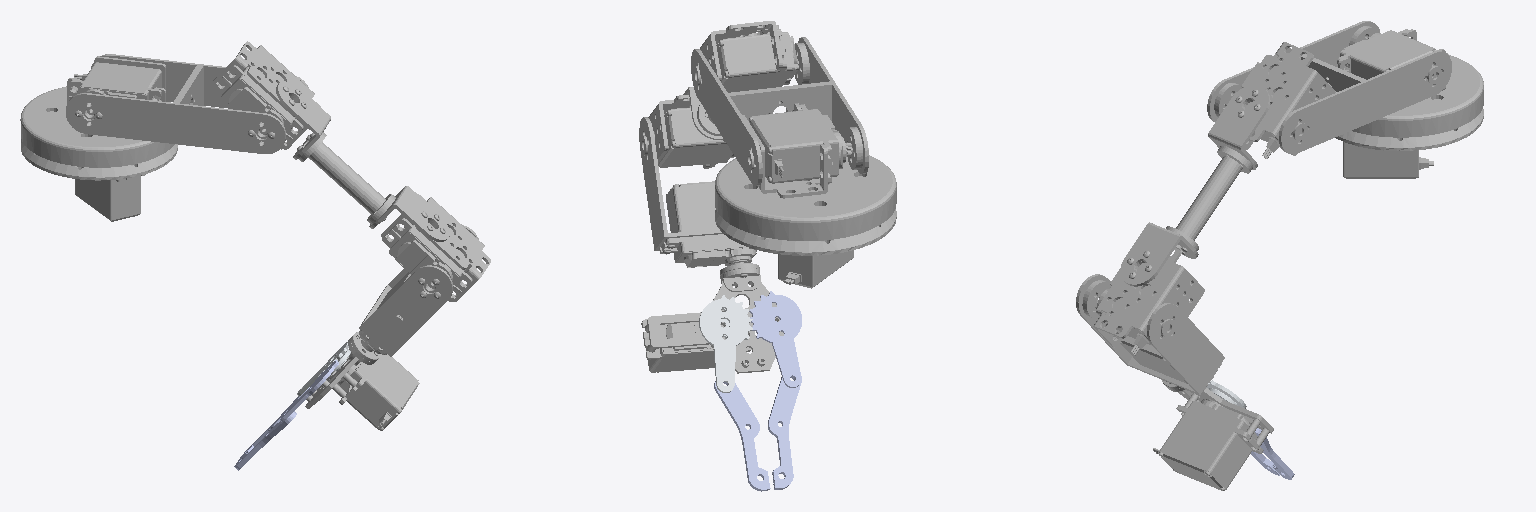
robot.urdf — robotarm:
<?xml version="1.0" encoding="utf-8"?>
<!-- This URDF was automatically created by SolidWorks to URDF Exporter! Originally created by [author] ([email redacted]) 
     Commit Version: 1.6.0-1-g15f4949  Build Version: 1.6.7594.29634
     For more information, please see http://wiki.ros.org/sw_urdf_exporter -->
<robot
  name="robotarm">
  <link
    name="base_link">
    <inertial>
      <origin
        xyz="-1.6426E-07 -0.0034447 -0.015321"
        rpy="0 0 0" />
      <mass
        value="0.075498" />
      <inertia
        ixx="3.0782E-05"
        ixy="-1.319E-10"
        ixz="2.5699E-10"
        iyy="2.8846E-05"
        iyz="-2.7031E-07"
        izz="4.9712E-05" />
    </inertial>
    <visual>
      <origin
        xyz="0 0 0"
        rpy="0 0 0" />
      <geometry>
        <mesh
          filename="package://robotarm/meshes/base_link.STL" />
      </geometry>
      <material
        name="">
        <color
          rgba="0.75294 0.75294 0.75294 1" />
      </material>
    </visual>
    <collision>
      <origin
        xyz="0 0 0"
        rpy="0 0 0" />
      <geometry>
        <mesh
          filename="package://robotarm/meshes/base_link.STL" />
      </geometry>
    </collision>
  </link>
  <link
    name="link_1">
    <inertial>
      <origin
        xyz="0.00643720654093674 -0.00269150109526517 0.0134014173539044"
        rpy="0 0 0" />
      <mass
        value="0.0798083224491902" />
      <inertia
        ixx="2.66369888305852E-05"
        ixy="2.43210282464138E-06"
        ixz="-3.15010363972306E-07"
        iyy="2.67162812954715E-05"
        iyz="-3.12605441684161E-07"
        izz="4.93317878172949E-05" />
    </inertial>
    <visual>
      <origin
        xyz="0 0 0"
        rpy="0 0 0" />
      <geometry>
        <mesh
          filename="package://robotarm/meshes/link_1.STL" />
      </geometry>
      <material
        name="">
        <color
          rgba="0.752941176470588 0.752941176470588 0.752941176470588 1" />
      </material>
    </visual>
    <collision>
      <origin
        xyz="0 0 0"
        rpy="0 0 0" />
      <geometry>
        <mesh
          filename="package://robotarm/meshes/link_1.STL" />
      </geometry>
    </collision>
  </link>
  <joint
    name="joint_0"
    type="revolute">
    <origin
      xyz="0 0 0"
      rpy="0 0 0" />
    <parent
      link="base_link" />
    <child
      link="link_1" />
    <axis
      xyz="0 0 1" />
    <limit
      lower="0"
      upper="4.712"
      effort="0"
      velocity="0" />
  </joint>
  <link
    name="link_2">
    <inertial>
      <origin
        xyz="-0.051 -2.63677968348475E-16 -0.00196123940376832"
        rpy="0 0 0" />
      <mass
        value="0.0475993853834784" />
      <inertia
        ixx="2.93414623184683E-05"
        ixy="-1.30726089434481E-19"
        ixz="5.11338195957461E-36"
        iyy="4.53034392400335E-05"
        iyz="-9.5043314074099E-21"
        izz="2.08816059621121E-05" />
    </inertial>
    <visual>
      <origin
        xyz="0 0 0"
        rpy="0 0 0" />
      <geometry>
        <mesh
          filename="package://robotarm/meshes/link_2.STL" />
      </geometry>
      <material
        name="">
        <color
          rgba="0.752941176470588 0.752941176470588 0.752941176470588 1" />
      </material>
    </visual>
    <collision>
      <origin
        xyz="0 0 0"
        rpy="0 0 0" />
      <geometry>
        <mesh
          filename="package://robotarm/meshes/link_2.STL" />
      </geometry>
    </collision>
  </link>
  <joint
    name="joint1"
    type="revolute">
    <origin
      xyz="0.00124058826901911 -0.00124058826901911 0.0221999999999998"
      rpy="1.5707963267949 0 2.35619449019234" />
    <parent
      link="link_1" />
    <child
      link="link_2" />
    <axis
      xyz="0 0 -1" />
    <limit
      lower="0"
      upper="3.14"
      effort="0"
      velocity="0" />
  </joint>
  <link
    name="link_3">
    <inertial>
      <origin
        xyz="0.0444752633995382 0.0332421345581076 0.00374536353127095"
        rpy="0 0 0" />
      <mass
        value="0.111344903558028" />
      <inertia
        ixx="1.66056250623683E-05"
        ixy="-6.71948378498426E-06"
        ixz="6.19342096871634E-07"
        iyy="1.89789027026512E-05"
        iyz="-5.97715578617458E-07"
        izz="2.27017654068602E-05" />
    </inertial>
    <visual>
      <origin
        xyz="0 0 0"
        rpy="0 0 0" />
      <geometry>
        <mesh
          filename="package://robotarm/meshes/link_3.STL" />
      </geometry>
      <material
        name="">
        <color
          rgba="0.752941176470588 0.752941176470588 0.752941176470588 1" />
      </material>
    </visual>
    <collision>
      <origin
        xyz="0 0 0"
        rpy="0 0 0" />
      <geometry>
        <mesh
          filename="package://robotarm/meshes/link_3.STL" />
      </geometry>
    </collision>
  </link>
  <joint
    name="joint_2"
    type="revolute">
    <origin
      xyz="-0.102 0 0"
      rpy="0 0 -3.14159265358979" />
    <parent
      link="link_2" />
    <child
      link="link_3" />
    <axis
      xyz="0 0 -1" />
    <limit
      lower="0"
      upper="3.14"
      effort="0"
      velocity="0" />
  </joint>
  <link
    name="link_4">
    <inertial>
      <origin
        xyz="3.02730824502939E-06 0.0352705924267145 -0.00196741413973657"
        rpy="0 0 0" />
      <mass
        value="0.0508687980545233" />
      <inertia
        ixx="2.51364985763338E-05"
        ixy="-3.85091293605431E-09"
        ixz="-1.02797636769819E-12"
        iyy="1.93910140275962E-05"
        iyz="3.94774817099828E-08"
        izz="9.91099475568992E-06" />
    </inertial>
    <visual>
      <origin
        xyz="0 0 0"
        rpy="0 0 0" />
      <geometry>
        <mesh
          filename="package://robotarm/meshes/link_4.STL" />
      </geometry>
      <material
        name="">
        <color
          rgba="0.752941176470588 0.752941176470588 0.752941176470588 1" />
      </material>
    </visual>
    <collision>
      <origin
        xyz="0 0 0"
        rpy="0 0 0" />
      <geometry>
        <mesh
          filename="package://robotarm/meshes/link_4.STL" />
      </geometry>
    </collision>
  </link>
  <joint
    name="joint_3"
    type="revolute">
    <origin
      xyz="0.099975662979547 0.0838894708388696 0"
      rpy="0.0330134851352851 0 0.698131700797741" />
    <parent
      link="link_3" />
    <child
      link="link_4" />
    <axis
      xyz="0 0 -1" />
    <limit
      lower="0"
      upper="3.14"
      effort="0"
      velocity="0" />
  </joint>
  <link
    name="link_5">
    <inertial>
      <origin
        xyz="-0.0184249544119825 0.0171316363540742 -0.035892675867338"
        rpy="0 0 0" />
      <mass
        value="0.0397478645334775" />
      <inertia
        ixx="2.32515926061247E-06"
        ixy="3.94774751684318E-08"
        ixz="6.48491138003059E-09"
        iyy="6.98208213781587E-06"
        iyz="5.78869036936509E-13"
        izz="6.25600346089357E-06" />
    </inertial>
    <visual>
      <origin
        xyz="0 0 0"
        rpy="0 0 0" />
      <geometry>
        <mesh
          filename="package://robotarm/meshes/link_5.STL" />
      </geometry>
      <material
        name="">
        <color
          rgba="0.752941176470588 0.752941176470588 0.752941176470588 1" />
      </material>
    </visual>
    <collision>
      <origin
        xyz="0 0 0"
        rpy="0 0 0" />
      <geometry>
        <mesh
          filename="package://robotarm/meshes/link_5.STL" />
      </geometry>
    </collision>
  </link>
  <joint
    name="joint_4"
    type="revolute">
    <origin
      xyz="0 0.0566763508359767 -0.0112859927951109"
      rpy="1.5707963267949 1.5707963267949 0" />
    <parent
      link="link_4" />
    <child
      link="link_5" />
    <axis
      xyz="0 0 1" />
    <limit
      lower="0"
      upper="3.14"
      effort="0"
      velocity="0" />
  </joint>
  <link
    name="link_61">
    <inertial>
      <origin
        xyz="-0.000192734771442497 0.00275873975359908 -0.000813773191796846"
        rpy="0 0 0" />
      <mass
        value="0.00341955118879605" />
      <inertia
        ixx="2.62104710682565E-07"
        ixy="2.30360067057318E-08"
        ixz="-1.74121518942412E-22"
        iyy="1.01403956505996E-07"
        iyz="-3.37489689921635E-22"
        izz="3.58487645568436E-07" />
    </inertial>
    <visual>
      <origin
        xyz="0 0 0"
        rpy="0 0 0" />
      <geometry>
        <mesh
          filename="package://robotarm/meshes/link_61.STL" />
      </geometry>
      <material
        name="">
        <color
          rgba="0.894117647058823 0.913725490196078 0.929411764705882 1" />
      </material>
    </visual>
    <collision>
      <origin
        xyz="0 0 0"
        rpy="0 0 0" />
      <geometry>
        <mesh
          filename="package://robotarm/meshes/link_61.STL" />
      </geometry>
    </collision>
  </link>
  <joint
    name="joint_51"
    type="revolute">
    <origin
      xyz="-0.013072 -0.00355 -0.039074"
      rpy="-1.5708 0 0" />
    <parent
      link="link_5" />
    <child
      link="link_61" />
    <axis
      xyz="0 0 1" />
    <limit
      lower="-0.04"
      upper="0.85"
      effort="0"
      velocity="0" />
  </joint>
  <link
    name="link_63">
    <inertial>
      <origin
        xyz="0.00654318154869312 0.0226680423442778 0.00150000000000014"
        rpy="0 0 0" />
      <mass
        value="0.00148390327012938" />
      <inertia
        ixx="4.32400053088663E-07"
        ixy="-7.84391167939727E-08"
        ixz="-4.98789909369476E-22"
        iyy="3.07531963750948E-08"
        iyz="-2.32768624372422E-21"
        izz="4.60927394558564E-07" />
    </inertial>
    <visual>
      <origin
        xyz="0 0 0"
        rpy="0 0 0" />
      <geometry>
        <mesh
          filename="package://robotarm/meshes/link_63.STL" />
      </geometry>
      <material
        name="">
        <color
          rgba="0.792156862745098 0.819607843137255 0.933333333333333 1" />
      </material>
    </visual>
    <collision>
      <origin
        xyz="0 0 0"
        rpy="0 0 0" />
      <geometry>
        <mesh
          filename="package://robotarm/meshes/link_63.STL" />
      </geometry>
    </collision>
  </link>
  <joint
    name="joint_53"
    type="revolute">
    <origin
      xyz="-0.0036089 0.030839 -0.00175"
      rpy="0 0 0" />
    <parent
      link="link_61" />
    <child
      link="link_63" />
    <axis
      xyz="0 0 -1" />
    <limit
      lower="-0.04"
      upper="0.85"
      effort="0"
      velocity="0" />
    <mimic
      joint="joint_51"
      multiplier="1"
      offset="0" />
  </joint>
  <link
    name="link_62">
    <inertial>
      <origin
        xyz="0.00042558867984482 0.00666645635213595 -0.00100000000000061"
        rpy="0 0 0" />
      <mass
        value="0.00141569349834304" />
      <inertia
        ixx="2.12882327783984E-07"
        ixy="-2.23055006843692E-08"
        ixz="-9.05349180439289E-22"
        iyy="4.996839643101E-08"
        iyz="-1.53690157812353E-21"
        izz="2.61906928549432E-07" />
    </inertial>
    <visual>
      <origin
        xyz="0 0 0"
        rpy="0 0 0" />
      <geometry>
        <mesh
          filename="package://robotarm/meshes/link_62.STL" />
      </geometry>
      <material
        name="">
        <color
          rgba="0.792156862745098 0.819607843137255 0.933333333333333 1" />
      </material>
    </visual>
    <collision>
      <origin
        xyz="0 0 0"
        rpy="0 0 0" />
      <geometry>
        <mesh
          filename="package://robotarm/meshes/link_62.STL" />
      </geometry>
    </collision>
  </link>
  <joint
    name="joint_52"
    type="revolute">
    <origin
      xyz="0.014 -0.0053 -0.039074"
      rpy="-1.5708 0 0" />
    <parent
      link="link_5" />
    <child
      link="link_62" />
    <axis
      xyz="0 0 -1" />
    <limit
      lower="-0.04"
      upper="0.85"
      effort="0"
      velocity="0" />
    <mimic
      joint="joint_51"
      multiplier="1"
      offset="0" />
  </joint>
  <link
    name="link_64">
    <inertial>
      <origin
        xyz="-0.00676896117046278 0.022601648903872 0.00150000000000003"
        rpy="0 0 0" />
      <mass
        value="0.00148390327012937" />
      <inertia
        ixx="4.30795368939764E-07"
        ixy="8.24295843530975E-08"
        ixz="-1.08360660244447E-22"
        iyy="3.23578805239945E-08"
        iyz="-4.51640614453953E-22"
        izz="4.60927394558564E-07" />
    </inertial>
    <visual>
      <origin
        xyz="0 0 0"
        rpy="0 0 0" />
      <geometry>
        <mesh
          filename="package://robotarm/meshes/link_64.STL" />
      </geometry>
      <material
        name="">
        <color
          rgba="0.792156862745098 0.819607843137255 0.933333333333333 1" />
      </material>
    </visual>
    <collision>
      <origin
        xyz="0 0 0"
        rpy="0 0 0" />
      <geometry>
        <mesh
          filename="package://robotarm/meshes/link_64.STL" />
      </geometry>
    </collision>
  </link>
  <joint
    name="joint_54"
    type="revolute">
    <origin
      xyz="0.003442 0.030858 0"
      rpy="0 0 0" />
    <parent
      link="link_62" />
    <child
      link="link_64" />
    <axis
      xyz="0 0 1" />
    <limit
      lower="-0.04"
      upper="0.85"
      effort="0"
      velocity="0" />
    <mimic
      joint="joint_51"
      multiplier="1"
      offset="0" />
  </joint>
</robot>

--- What the picture shows (computed from the rendered views, not written in the file) ---
Views: 3 orthographic renders of the robot side by side, from view 1: azimuth 30°, elevation 25°; view 2: azimuth 150°, elevation 25°; view 3: azimuth 270°, elevation 25°.
Robot: robotarm — 10 links, 9 joints (9 revolute); root link base_link; default pose: all joints at 0.
Visible links, largest first — view 1: link_3, link_2, link_1, link_5, link_4, base_link, link_64; view 2: link_1, link_3, link_2, link_4, link_5, base_link, link_61, link_62, link_63, link_64; view 3: link_3, link_2, link_1, link_5, link_4, base_link.
Boxes of the visible links, x1,y1,x2,y2 form: link_3: [212, 41, 490, 301]; link_2: [66, 54, 308, 153]; link_1: [20, 56, 174, 167]; link_5: [305, 332, 419, 430]; link_4: [359, 225, 478, 356]; base_link: [21, 139, 177, 221]; link_64: [234, 411, 296, 470]; link_1: [715, 103, 896, 240]; link_3: [648, 21, 798, 168]; link_2: [691, 37, 868, 185]; link_4: [639, 117, 756, 267]; link_5: [641, 263, 783, 373]; base_link: [715, 209, 896, 288]; link_61: [699, 295, 752, 392]; link_62: [749, 291, 801, 387]; link_63: [714, 381, 770, 491]; link_64: [768, 377, 801, 489]; link_3: [1093, 42, 1335, 355]; link_2: [1207, 21, 1451, 153]; link_1: [1328, 29, 1483, 137]; link_5: [1153, 380, 1273, 490]; link_4: [1076, 274, 1224, 394]; base_link: [1335, 109, 1483, 178].
Size in the robot's own frame: 0.2186 by 0.2194 by 0.2576 metres.
10 mesh visuals loaded from 10 distinct referenced files (10 binary STL).